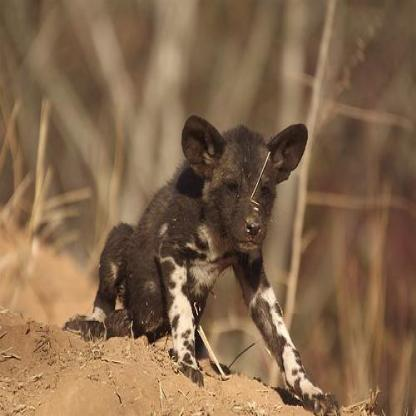African_hunting_dog: (64, 112, 339, 414)
